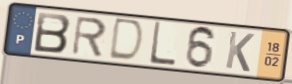6: (185, 25, 221, 71)
B: (32, 10, 73, 54)
D: (106, 17, 147, 64)
K: (223, 29, 256, 74)
L: (147, 21, 178, 68)
R: (70, 15, 109, 59)
